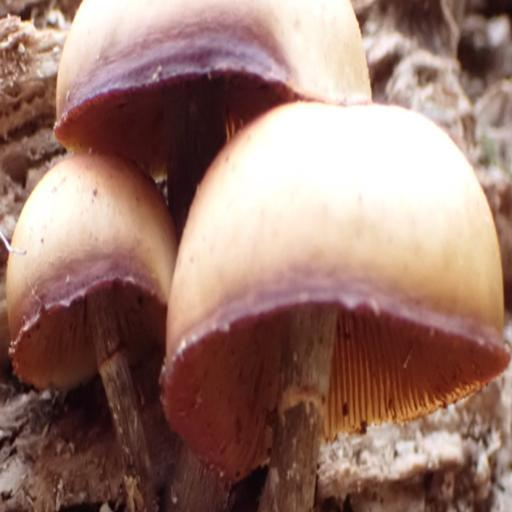mushroom: (173, 97, 512, 483), (6, 151, 169, 465)
